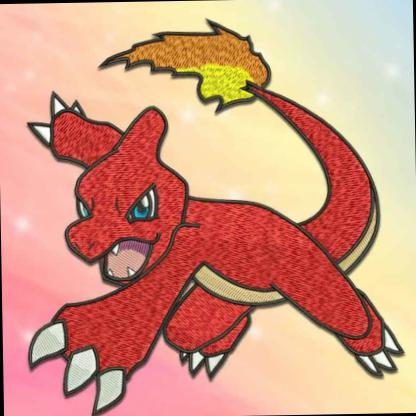Charmeleon: (13, 1, 416, 416)
